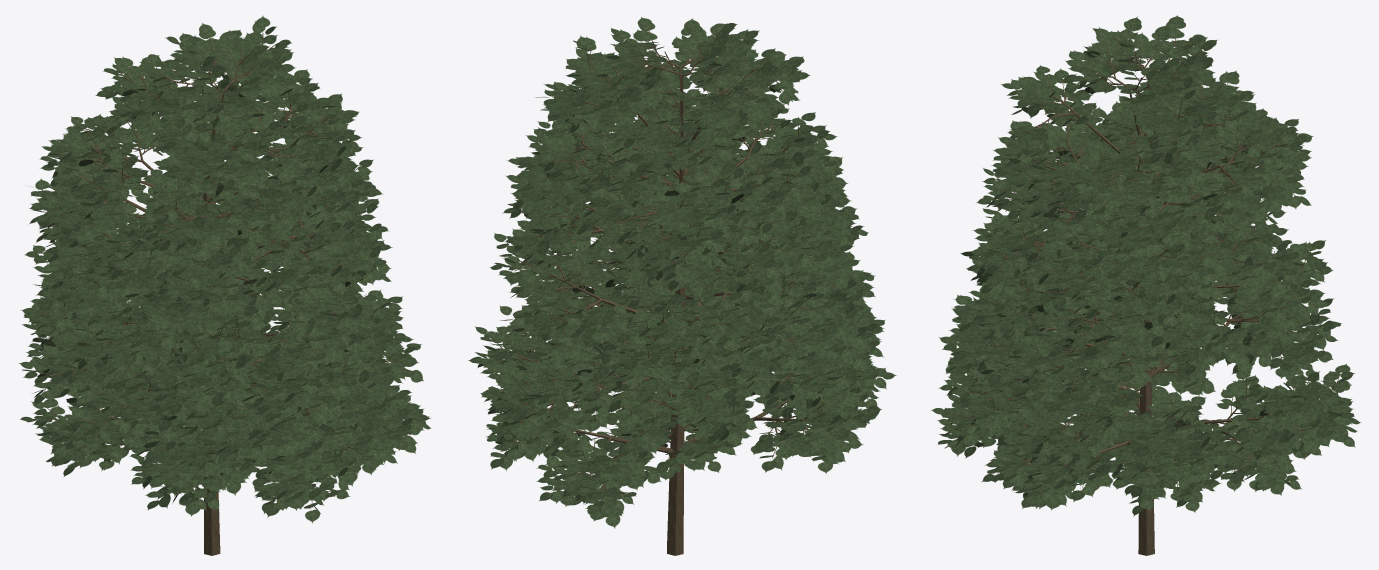
Rendered from tree-06.glb.
3 renders of one model, left to right at view 1: azimuth 30°, elevation 25°; view 2: azimuth 150°, elevation 25°; view 3: azimuth 270°, elevation 25°, orthographic. The views are drawn at different scales.
Parts seen in each view (by area): view 1: Tilia_europaea_mature_03_LoD2B; view 2: Tilia_europaea_mature_03_LoD2B; view 3: Tilia_europaea_mature_03_LoD2B.
Part boxes in pixels (<box>): Tilia_europaea_mature_03_LoD2B: <box>18,16,431,555</box>; Tilia_europaea_mature_03_LoD2B: <box>468,17,896,555</box>; Tilia_europaea_mature_03_LoD2B: <box>931,15,1360,555</box>.
Bounding box in the file's own units: 13.2 × 17.23 × 13.43.
2 materials, 2 textured.
